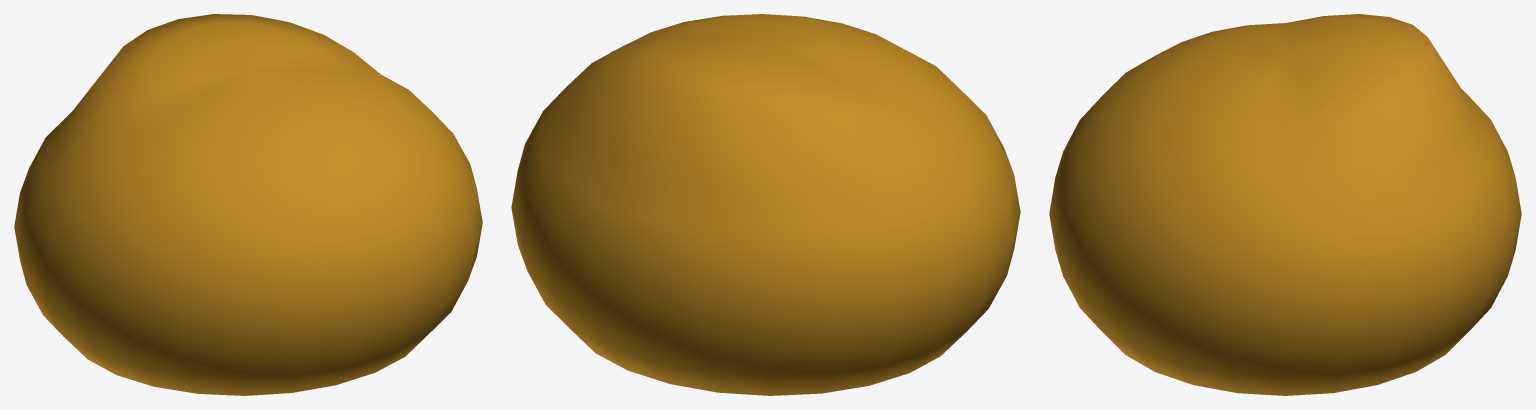
File: fur_bean_bag.glb
3 renders of one model, left to right at view 1: azimuth 30°, elevation 25°; view 2: azimuth 150°, elevation 25°; view 3: azimuth 270°, elevation 25°, orthographic. The views are drawn at different scales.
Parts seen in each view (by area): view 1: FUR_bean_bag; view 2: FUR_bean_bag; view 3: FUR_bean_bag.
Part boxes in pixels (x1,y1,x2,y2): FUR_bean_bag: (14, 14, 482, 395); FUR_bean_bag: (511, 14, 1020, 395); FUR_bean_bag: (1049, 14, 1521, 395).
Size of the model in its own units: 0.945 by 0.5811 by 0.9.
